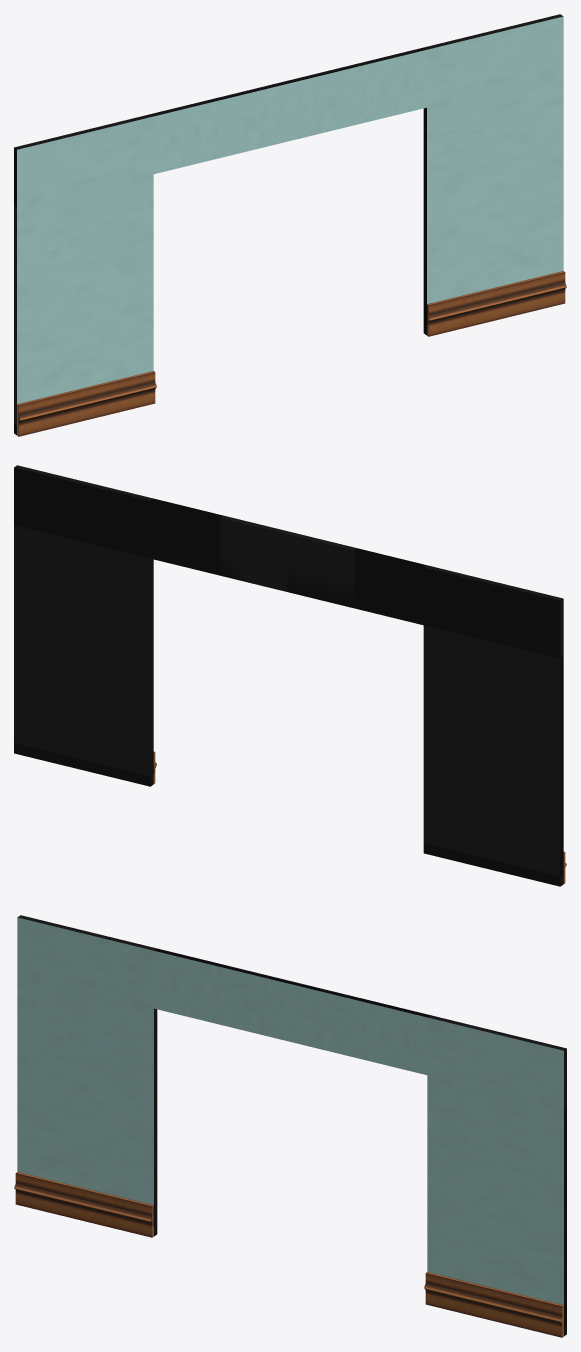
File: Doorway_DW_A.FBX
The picture shows the model from 3 angles, top to bottom: view 1: azimuth 30°, elevation 25°; view 2: azimuth 150°, elevation 25°; view 3: azimuth 330°, elevation 25°; orthographic projection.
Parts seen in each view (by area): view 1: Wall_Doorway_10m; view 2: Wall_Doorway_10m; view 3: Wall_Doorway_10m.
Part boxes in pixels (x1,y1,x2,y2): Wall_Doorway_10m: (14,14,566,436); Wall_Doorway_10m: (14,465,566,886); Wall_Doorway_10m: (14,915,566,1337).
Bounding box in the file's own units: 1000 × 500 × 20.82.
